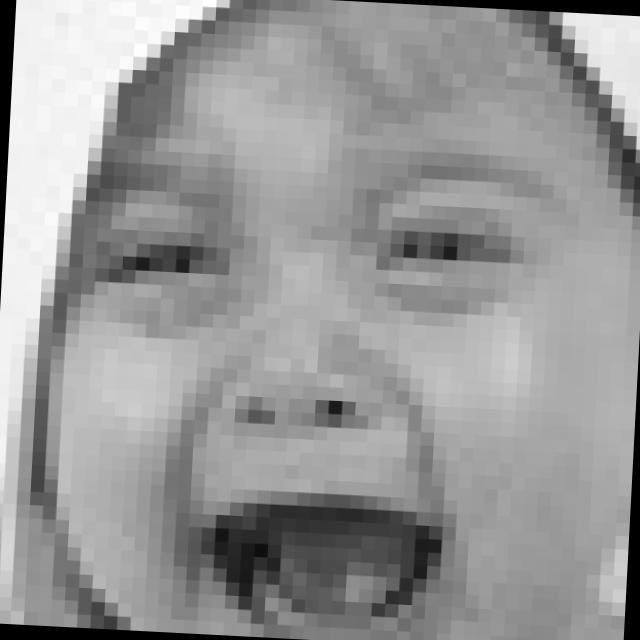sad: (64, 151, 566, 640)
